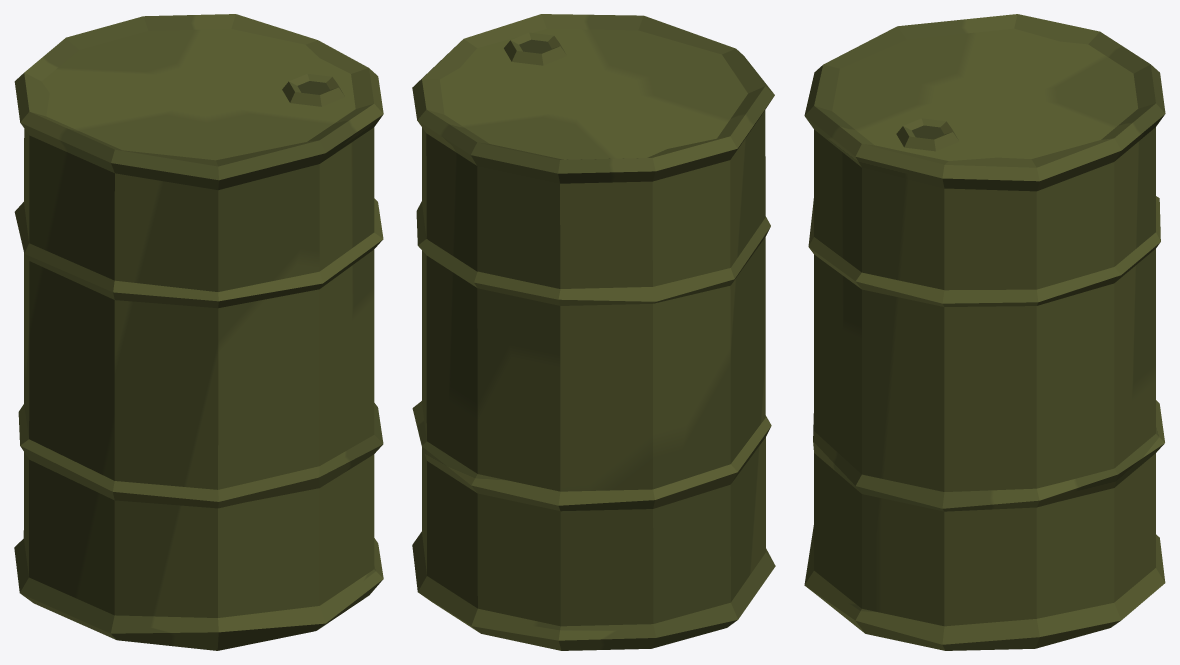
The model's file is SM_Prop_Barrel_01.fbx.
3 renders of one model, left to right at view 1: azimuth 30°, elevation 25°; view 2: azimuth 150°, elevation 25°; view 3: azimuth 270°, elevation 25°, orthographic.
Visible parts, largest first — view 1: SM_Prop_Barrel_01; view 2: SM_Prop_Barrel_01; view 3: SM_Prop_Barrel_01.
Boxes of the visible parts, box(x1,y1,x2,y2) form: SM_Prop_Barrel_01: box(14, 14, 383, 650); SM_Prop_Barrel_01: box(412, 14, 775, 650); SM_Prop_Barrel_01: box(804, 14, 1165, 650).
Bounding box in the file's own units: 71.11 × 105 × 69.63.
